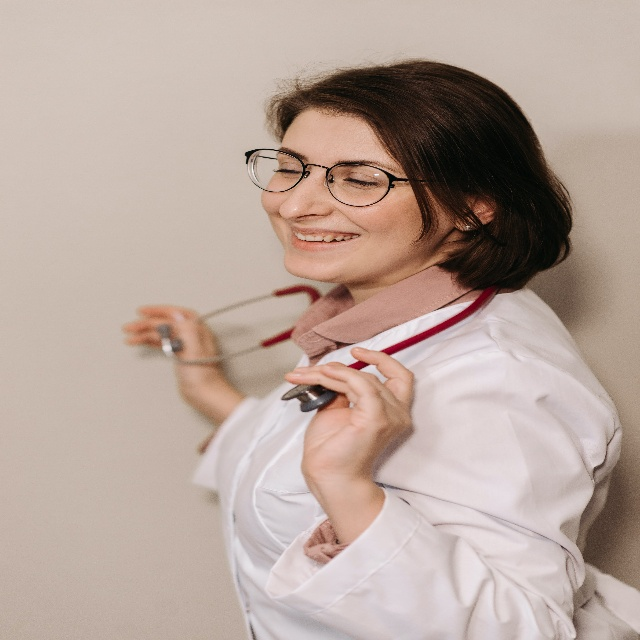Gafas: (242, 147, 417, 211)
Sin_guantes: (284, 343, 415, 481), (122, 297, 221, 396)
